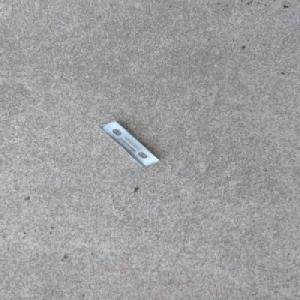ClampPart: (95, 118, 160, 167)
